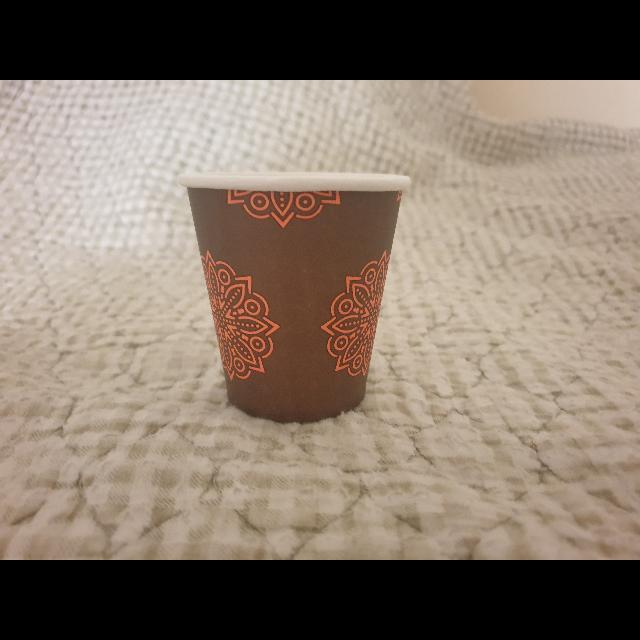trash: (178, 169, 418, 423)
